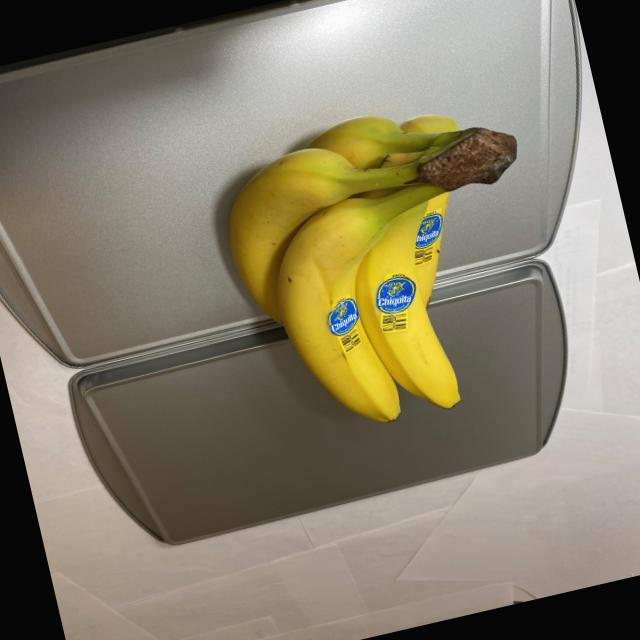banana: (202, 84, 576, 454)
